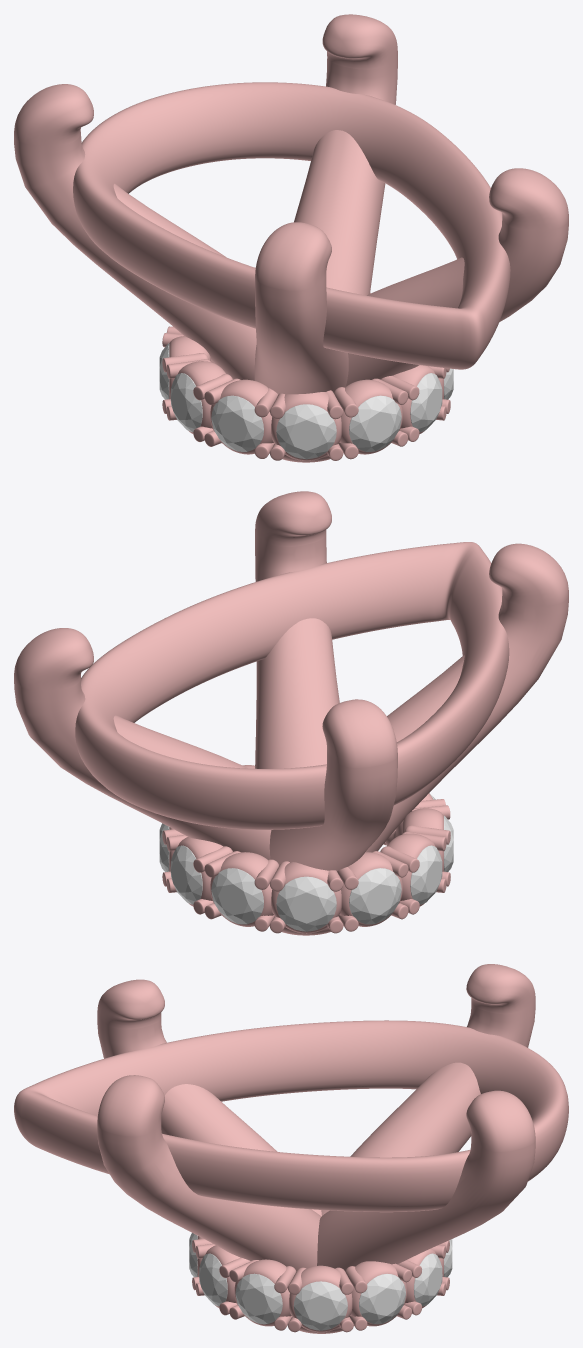
The model's file is PEAR.glb.
3 renders of one model, top to bottom at view 1: azimuth 30°, elevation 25°; view 2: azimuth 150°, elevation 25°; view 3: azimuth 270°, elevation 25°, orthographic. The views are drawn at different scales.
Visible parts, largest first — view 1: pear.002, hidden halo.007, hidden halo - diamonds.007; view 2: pear.002, hidden halo.007, hidden halo - diamonds.007; view 3: pear.002, hidden halo - diamonds.007, hidden halo.007.
Boxes of the visible parts, left/top/right/bottom form: pear.002: left=14, top=14, right=568, bottom=462; hidden halo.007: left=162, top=293, right=450, bottom=460; hidden halo - diamonds.007: left=159, top=343, right=453, bottom=459; pear.002: left=14, top=491, right=568, bottom=935; hidden halo.007: left=162, top=765, right=450, bottom=933; hidden halo - diamonds.007: left=159, top=793, right=453, bottom=931; pear.002: left=14, top=964, right=568, bottom=1333; hidden halo - diamonds.007: left=189, top=1233, right=452, bottom=1330; hidden halo.007: left=192, top=1236, right=449, bottom=1332.
Bounding box in the file's own units: 5.44 × 4.5 × 7.73.
